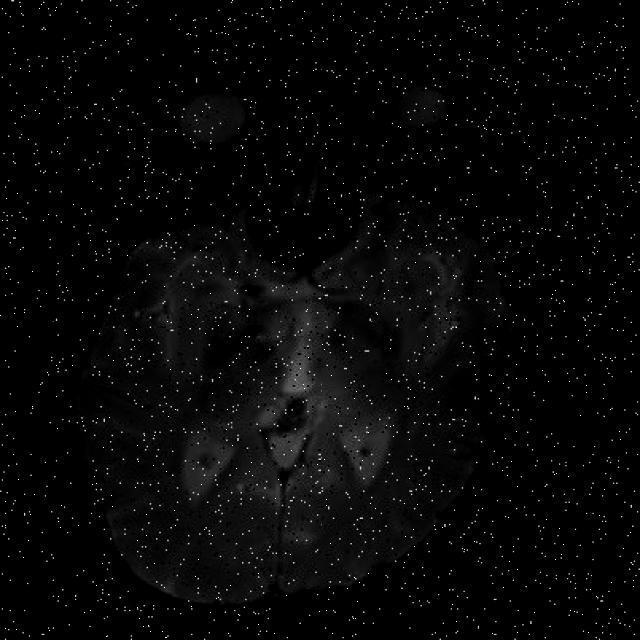LMCI: (194, 286, 288, 407), (326, 287, 411, 375)
